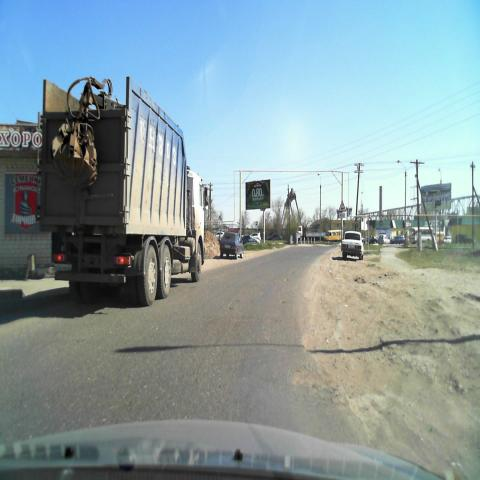1_2: (338, 200, 346, 212)
